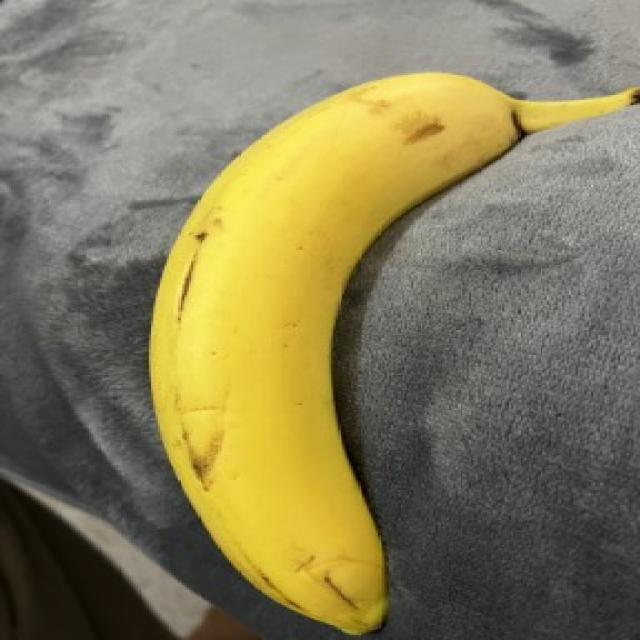Ripe: (77, 46, 640, 636)
